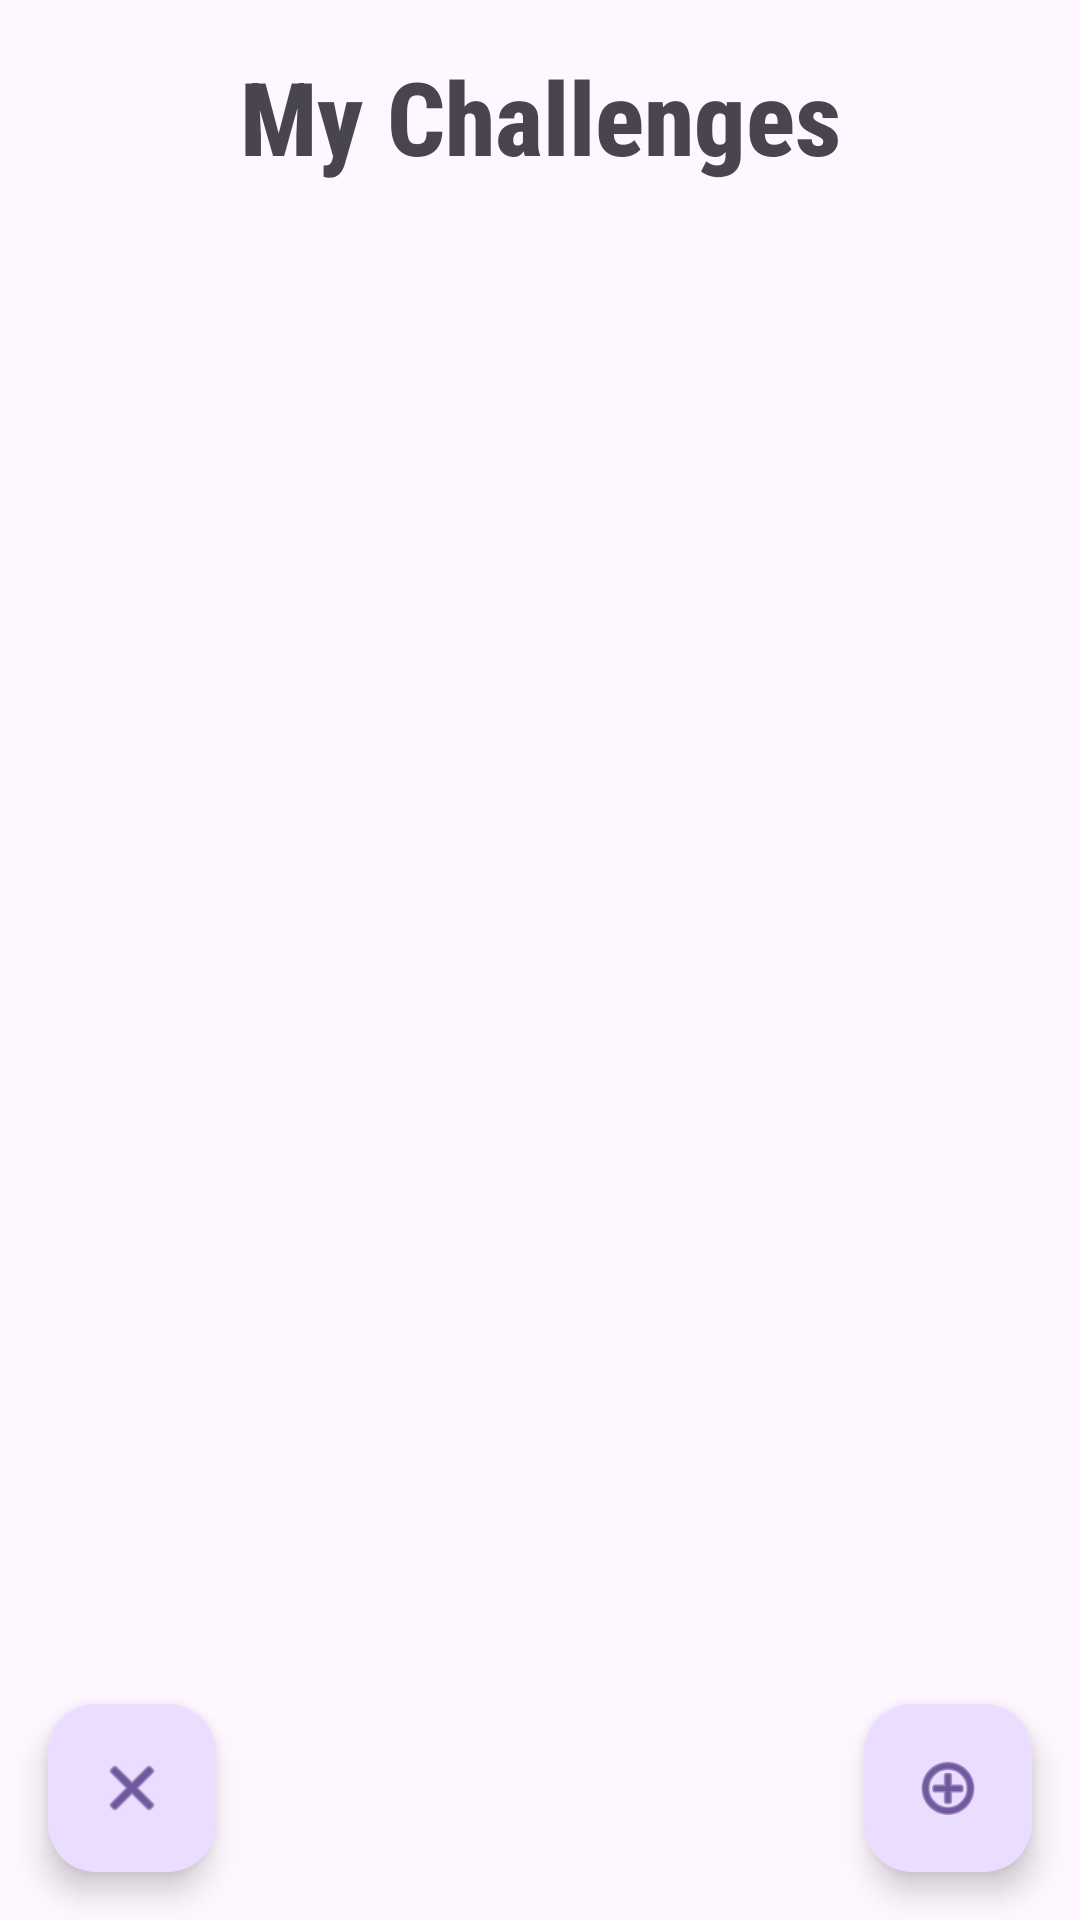

Icons on this 1080px×1920px Android screen, each with the point to tap as (x=x, y=y):
add: (x=948, y=1788)
close clear cancel: (x=132, y=1788)
